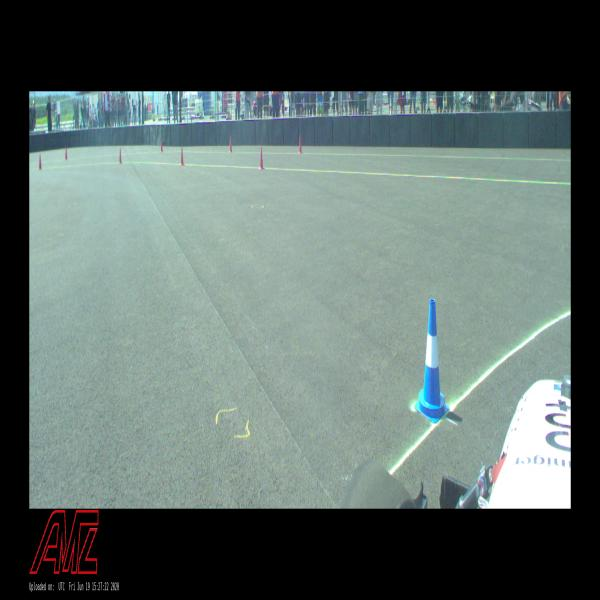blue_cone: (414, 299, 449, 424)
unknown_cone: (258, 146, 265, 169), (179, 146, 185, 166), (298, 135, 303, 154), (228, 136, 233, 153), (118, 147, 123, 164), (38, 154, 43, 169), (160, 138, 164, 153), (64, 146, 68, 160)
